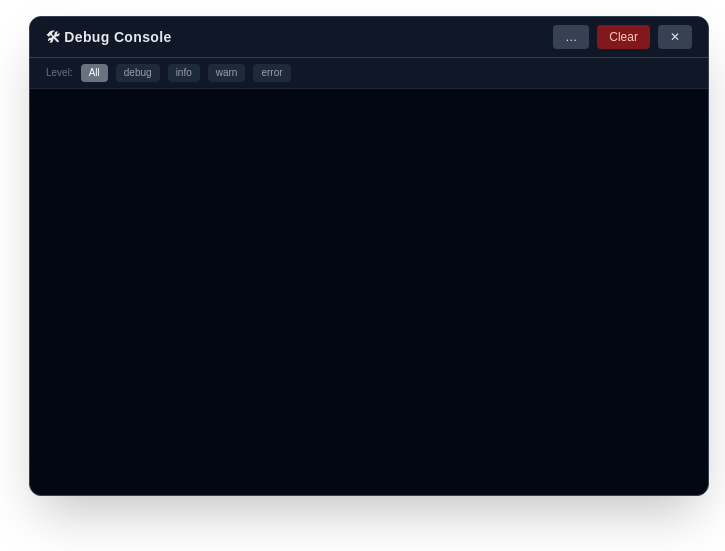
Test: DebugPanel — safe failure › shows an error banner when the DELETE request throws (network error)
Click the button "Clear".
click(624, 37)  # box [597,25,650,49]
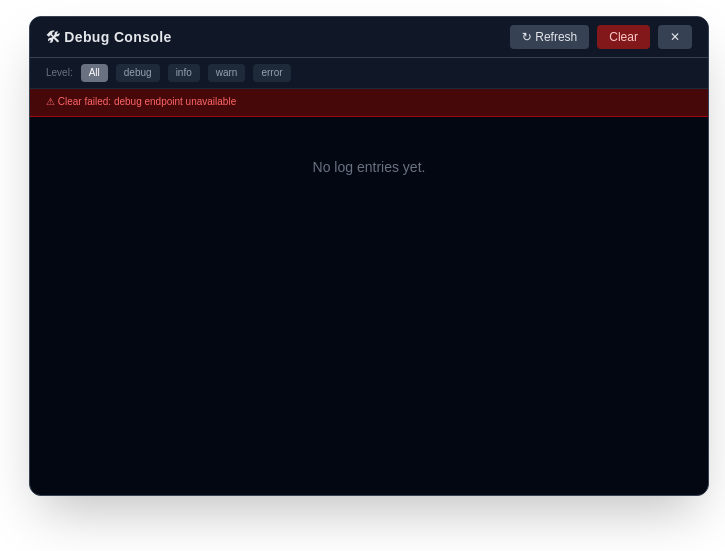
Expected: the text "⚠ Clear failed: debug endpoint unavailable" is shown, [30,89,708,117]
